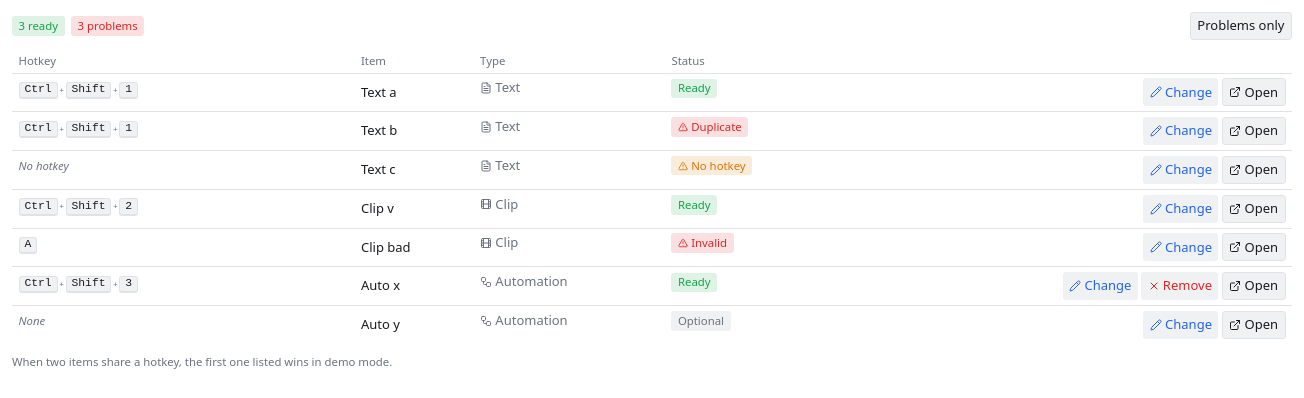
Test: HotkeysTable › shows an error when removing fails
Click the button with test id "hotkey-clear-x" at (1180, 286), box [1141, 272, 1218, 300]
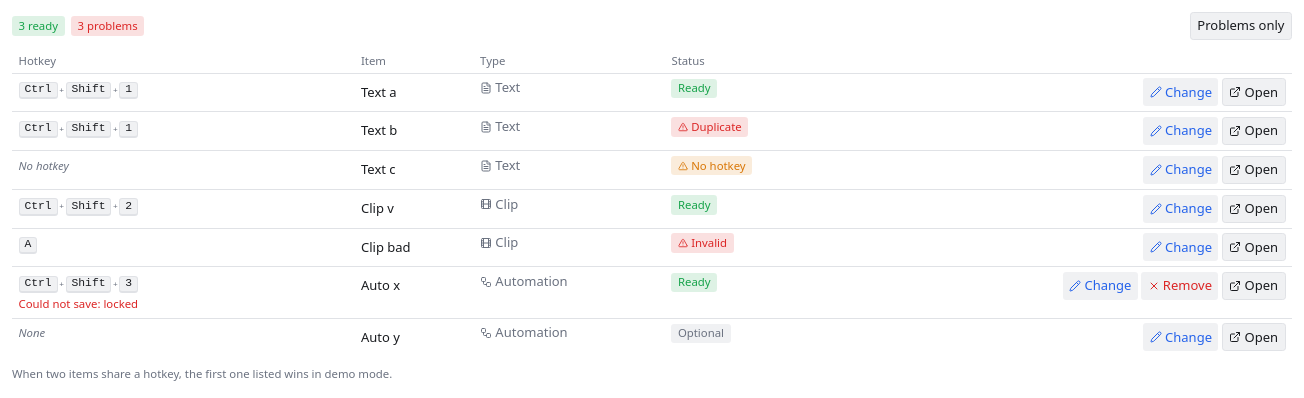
Check: the message with test id "hotkey-error-x" shows "locked", box [18, 296, 138, 311]
